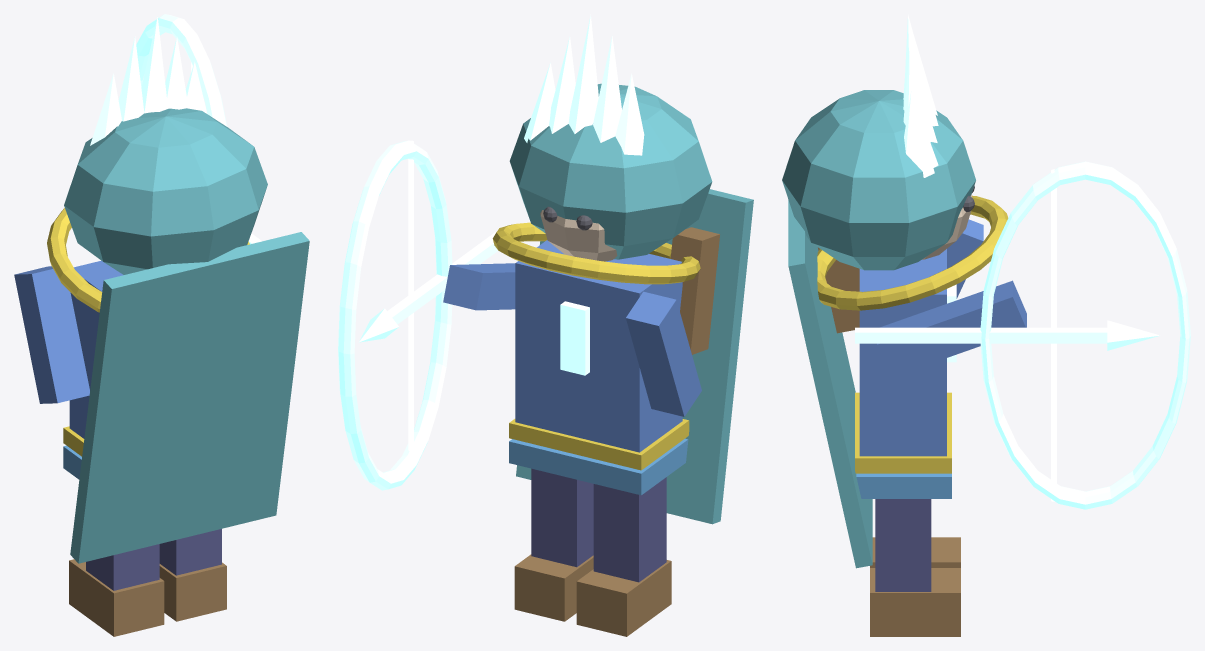
Rendered from magic_archer.glb.
3 renders of one model, left to right at view 1: azimuth 30°, elevation 25°; view 2: azimuth 150°, elevation 25°; view 3: azimuth 270°, elevation 25°, orthographic.
Parts seen in each view (by area): view 1: magic_archer; view 2: magic_archer; view 3: magic_archer.
Boxes of the visible parts, x1,y1,x2,y2 form: magic_archer: [14, 14, 309, 636]; magic_archer: [338, 14, 753, 636]; magic_archer: [782, 14, 1190, 636].
Size of the model in its own units: 1.1 by 2.72 by 1.68.
